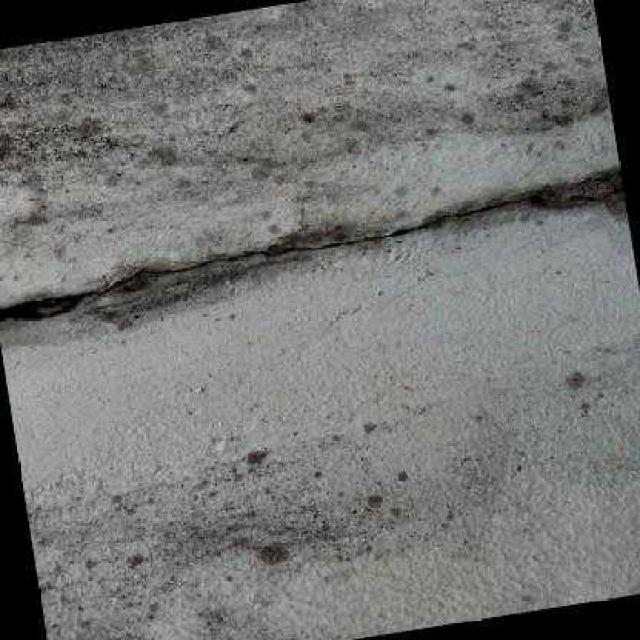D00: (0, 185, 623, 320)
